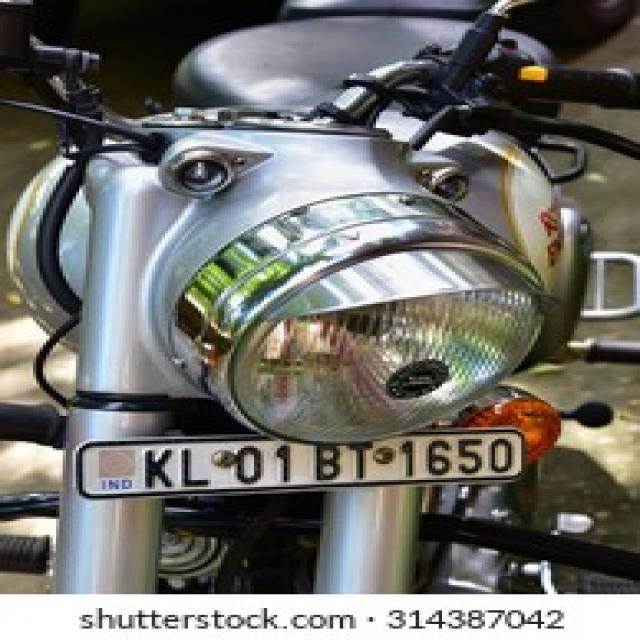license_plate: (72, 425, 524, 496)
